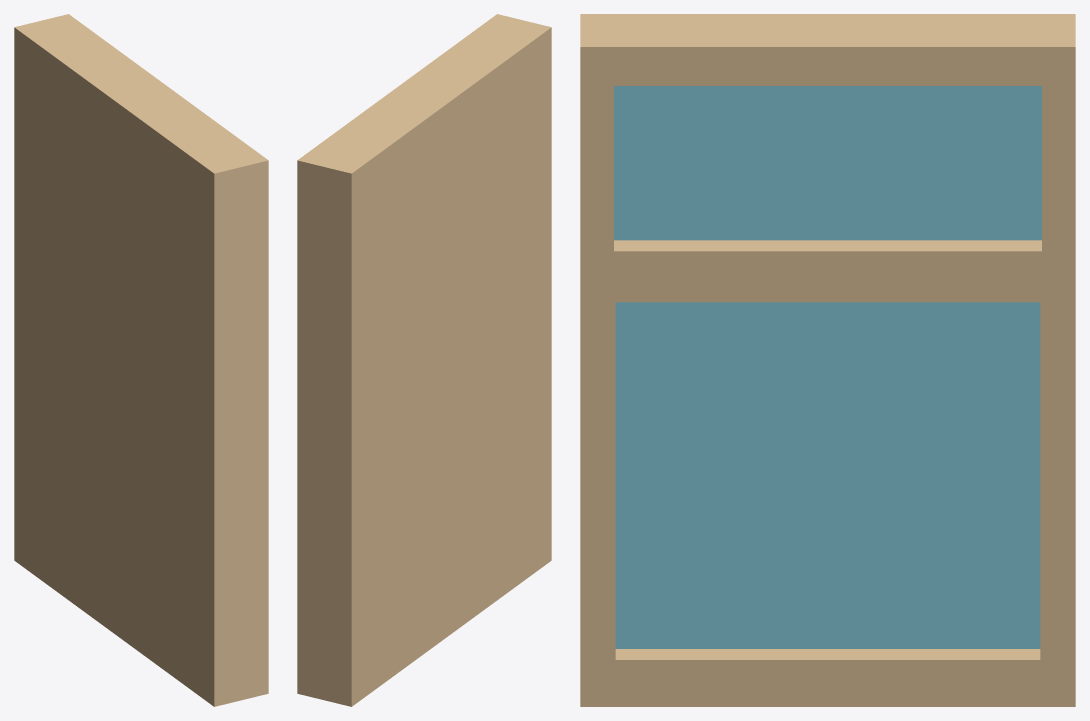
Rendered from window.fbx.
3 renders of one model, left to right at view 1: azimuth 30°, elevation 25°; view 2: azimuth 150°, elevation 25°; view 3: azimuth 270°, elevation 25°, orthographic. The views are drawn at different scales.
Parts seen in each view (by area): view 1: Cube; view 2: Cube; view 3: Cube.
Boxes of the visible parts, left/top/right/bottom form: Cube: left=14, top=14, right=268, bottom=706; Cube: left=297, top=14, right=551, bottom=706; Cube: left=580, top=14, right=1075, bottom=706.
Size of the model in its own units: 21.35 by 200 by 136.
